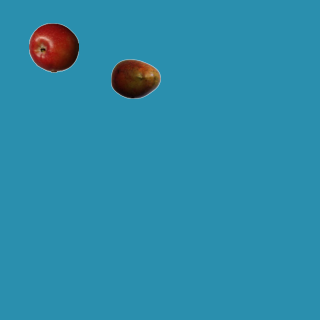Apple Braeburn: (28, 22, 78, 72)
Mango Red: (110, 53, 160, 103)
